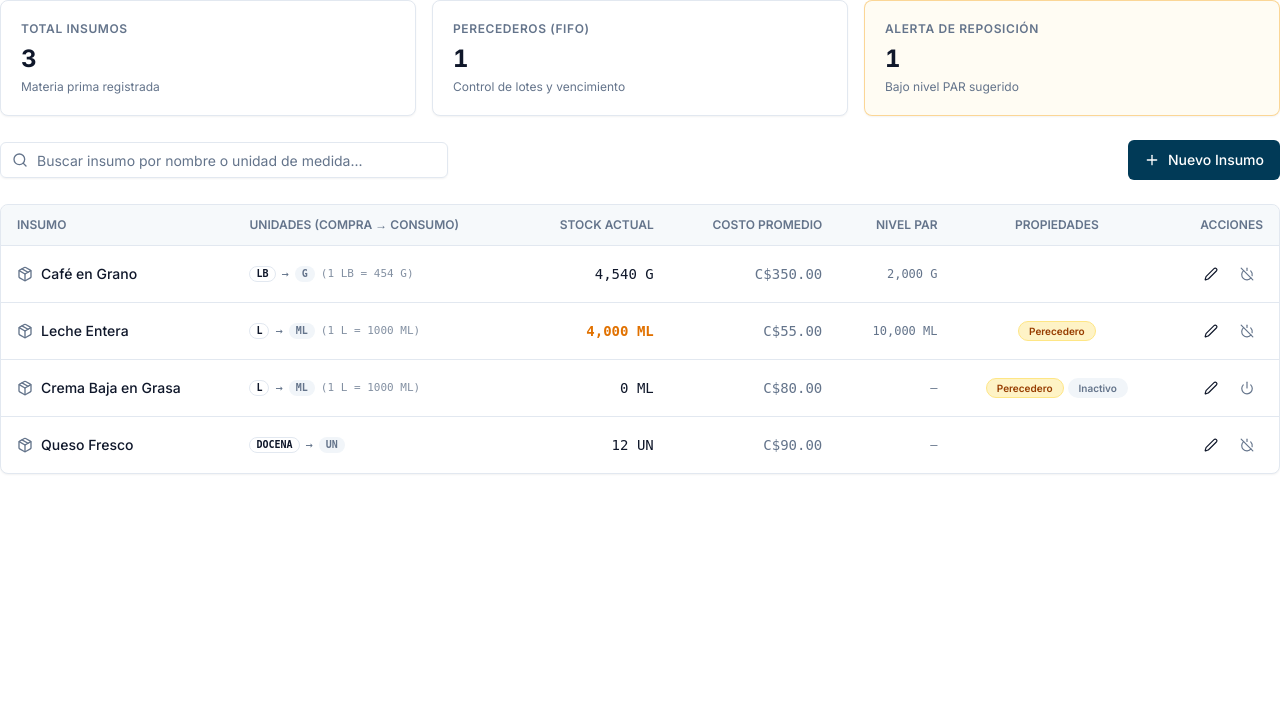
Scenario: InsumosTab › populates the UoM selects from the shared catalog with a placeholder
Expected: the text "Café en Grano" is shown, [41,264,137,284]
Click the button with test id "add-insumo-btn": (1204, 160) [1128,140,1279,180]
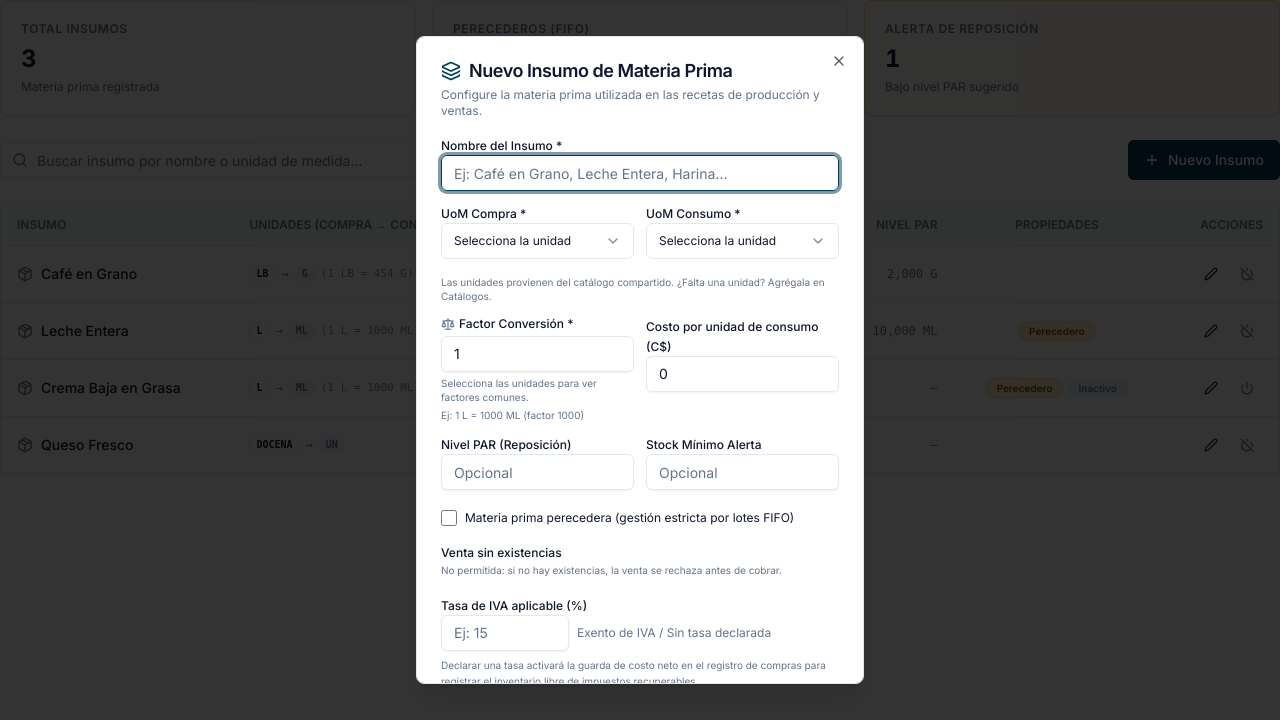
Now the dropdown with test id "insumo-form-purchase-uom" reads "Selecciona la unidad"
Now the dropdown with test id "insumo-form-consumption-uom" reads "Selecciona la unidad", box [646,223,839,259]
Click the dropdown with test id "insumo-form-purchase-uom": (538, 241) [441,223,634,259]
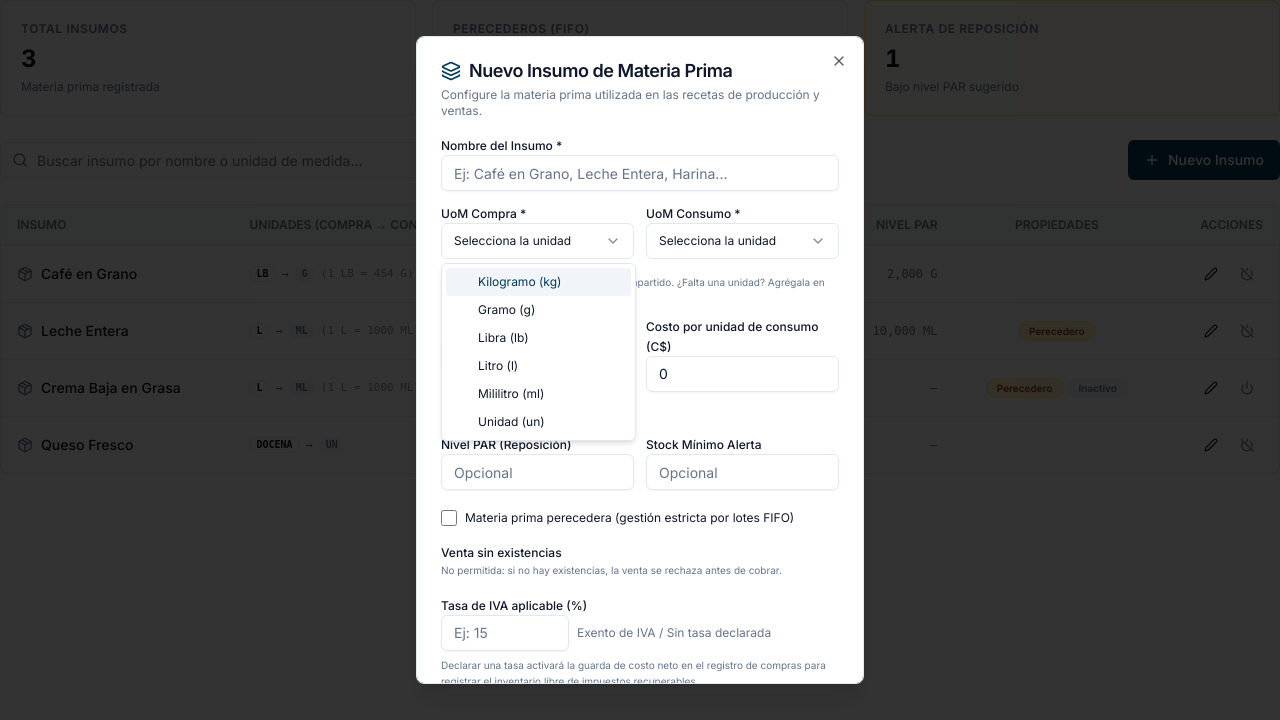
Now the option "Kilogramo (kg)" is shown, box [446,268,631,296]
Now the option "Libra (lb)" is shown, box [478,330,528,345]
Now the option "Unidad (un)" is shown, box [478,414,545,429]
